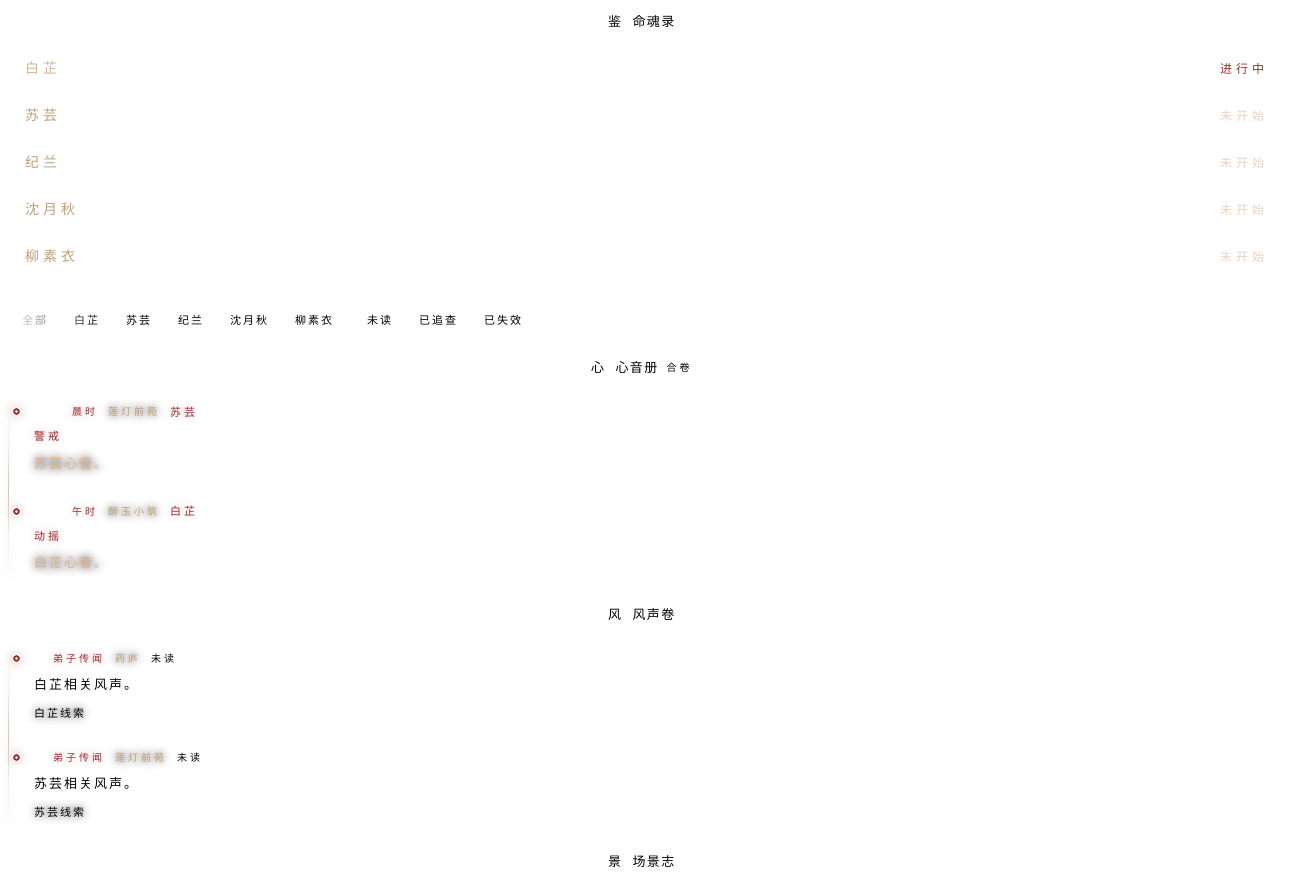
Test: GalleryPage › 可按NPC筛选心音册与风声卷
The width and height of the screenshot is (1292, 890).
Click the button "白芷".
click(87, 320)  # box [64,307,110,334]
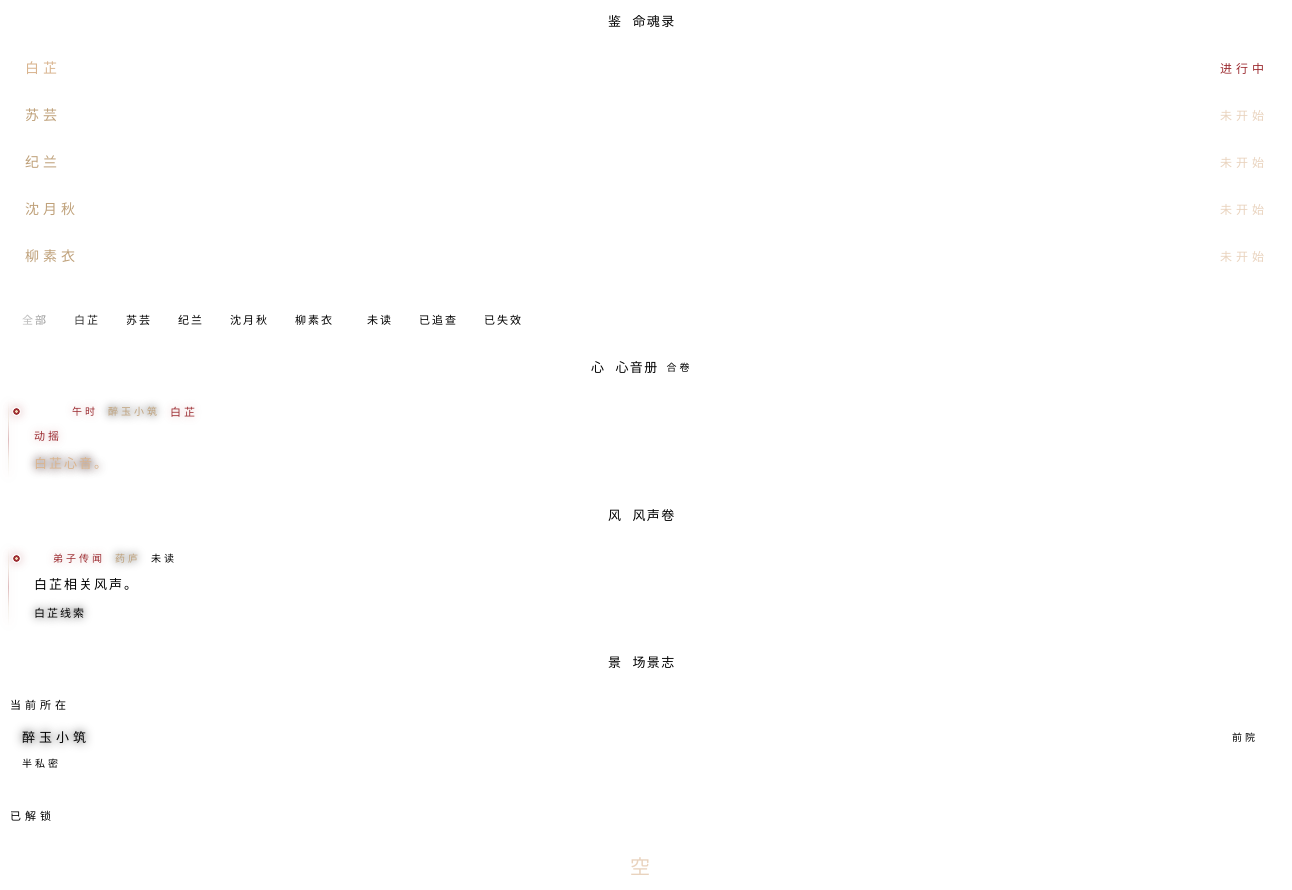
Expected: the button with class "soul-archive-item" shows "白芷心音。", [22,394,1280,485]
Expected: the number of buttons with class "soul-archive-item" is 1, [22,394,1280,485]
Expected: the number of buttons with class "rumor-archive-item" is 1, [22,541,1280,633]
